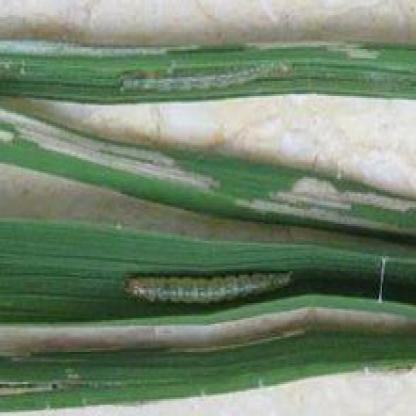leaf-folder: (116, 248, 317, 320), (110, 50, 304, 107)
